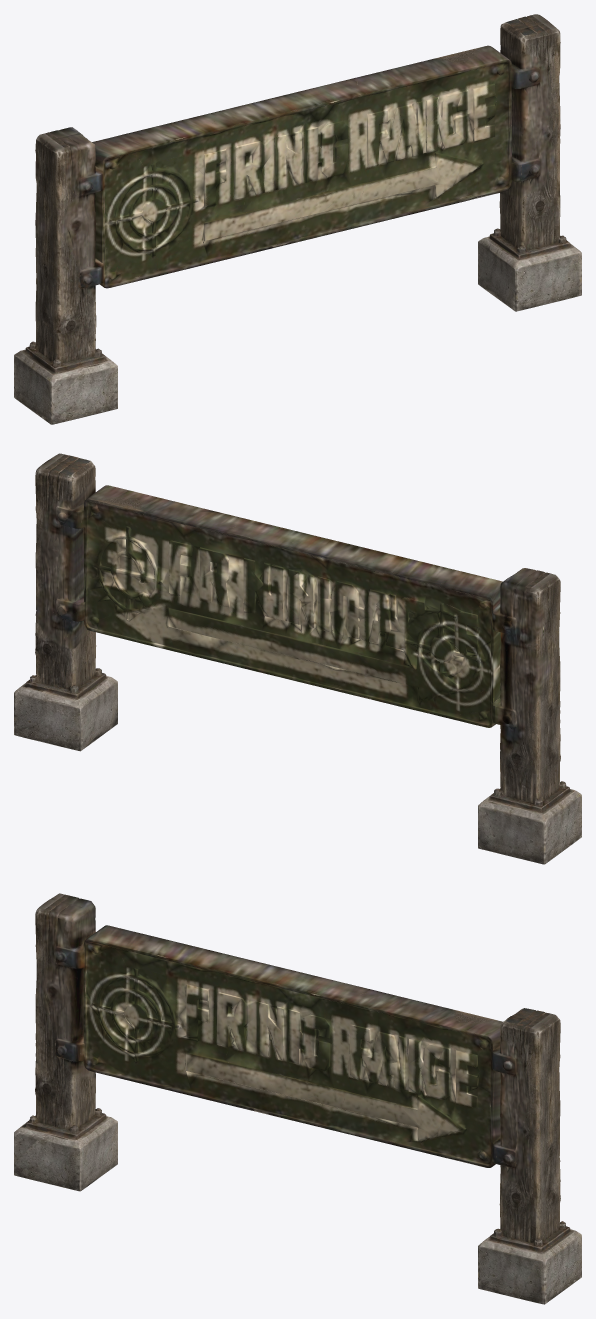
File: range_sign.glb
The picture shows the model from 3 angles, top to bottom: view 1: azimuth 30°, elevation 25°; view 2: azimuth 150°, elevation 25°; view 3: azimuth 330°, elevation 25°; orthographic projection.
Visible parts, largest first — view 1: Mesh_0; view 2: Mesh_0; view 3: Mesh_0.
Boxes of the visible parts, x1,y1,x2,y2 form: Mesh_0: [14, 14, 581, 424]; Mesh_0: [14, 453, 581, 864]; Mesh_0: [14, 893, 581, 1304].
Size of the model in its own units: 16.77 by 8 by 2.09.
Materials: 1 (1 with a texture image).
